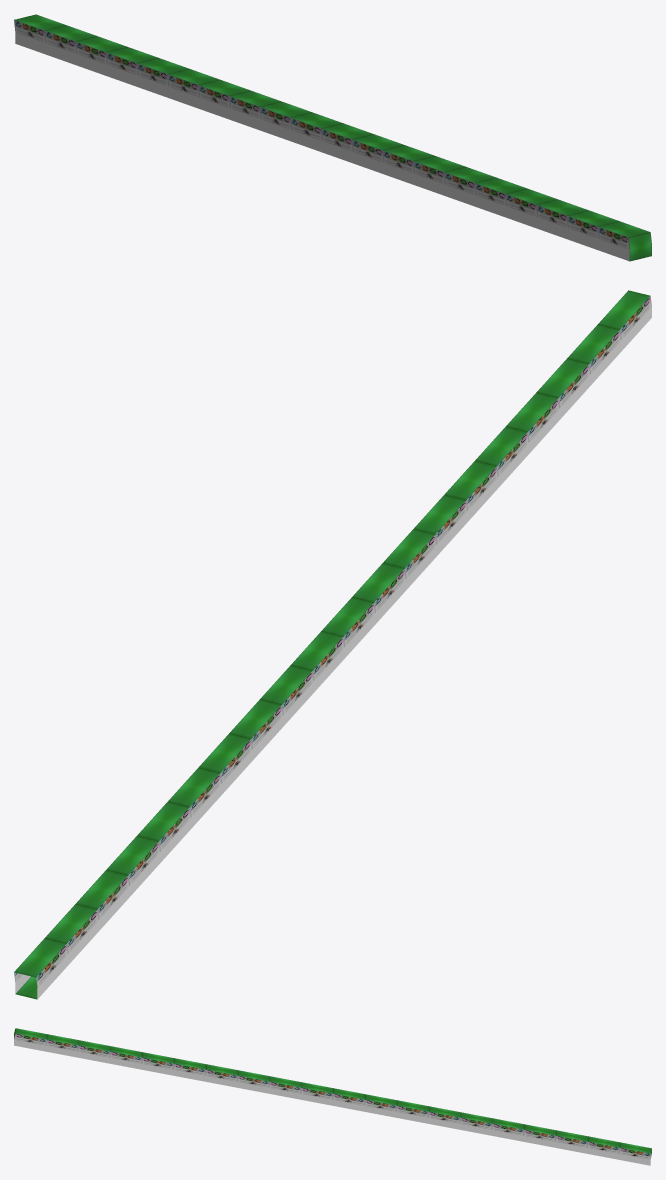
File: CourseSpring_Box_Wall_R_1.fbx
3 renders of one model, top to bottom at view 1: azimuth 30°, elevation 25°; view 2: azimuth 150°, elevation 25°; view 3: azimuth 270°, elevation 25°, orthographic. The views are drawn at different scales.
Visible parts, largest first — view 1: polySurface22; view 2: polySurface22; view 3: polySurface22.
Boxes of the visible parts, left/top/right/bottom form: polySurface22: left=14, top=14, right=651, bottom=261; polySurface22: left=14, top=290, right=651, bottom=999; polySurface22: left=14, top=1028, right=651, bottom=1165.
Bounding box in the file's own units: 2 × 21.98 × 96.2.
1 material, 1 textured.
